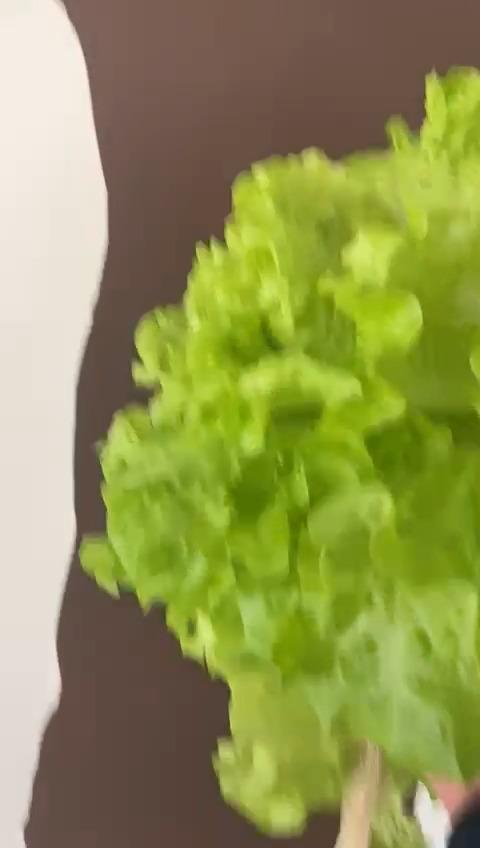Healthy: (72, 62, 480, 848)
